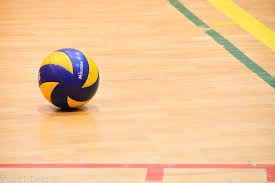ball: (37, 48, 101, 109)
